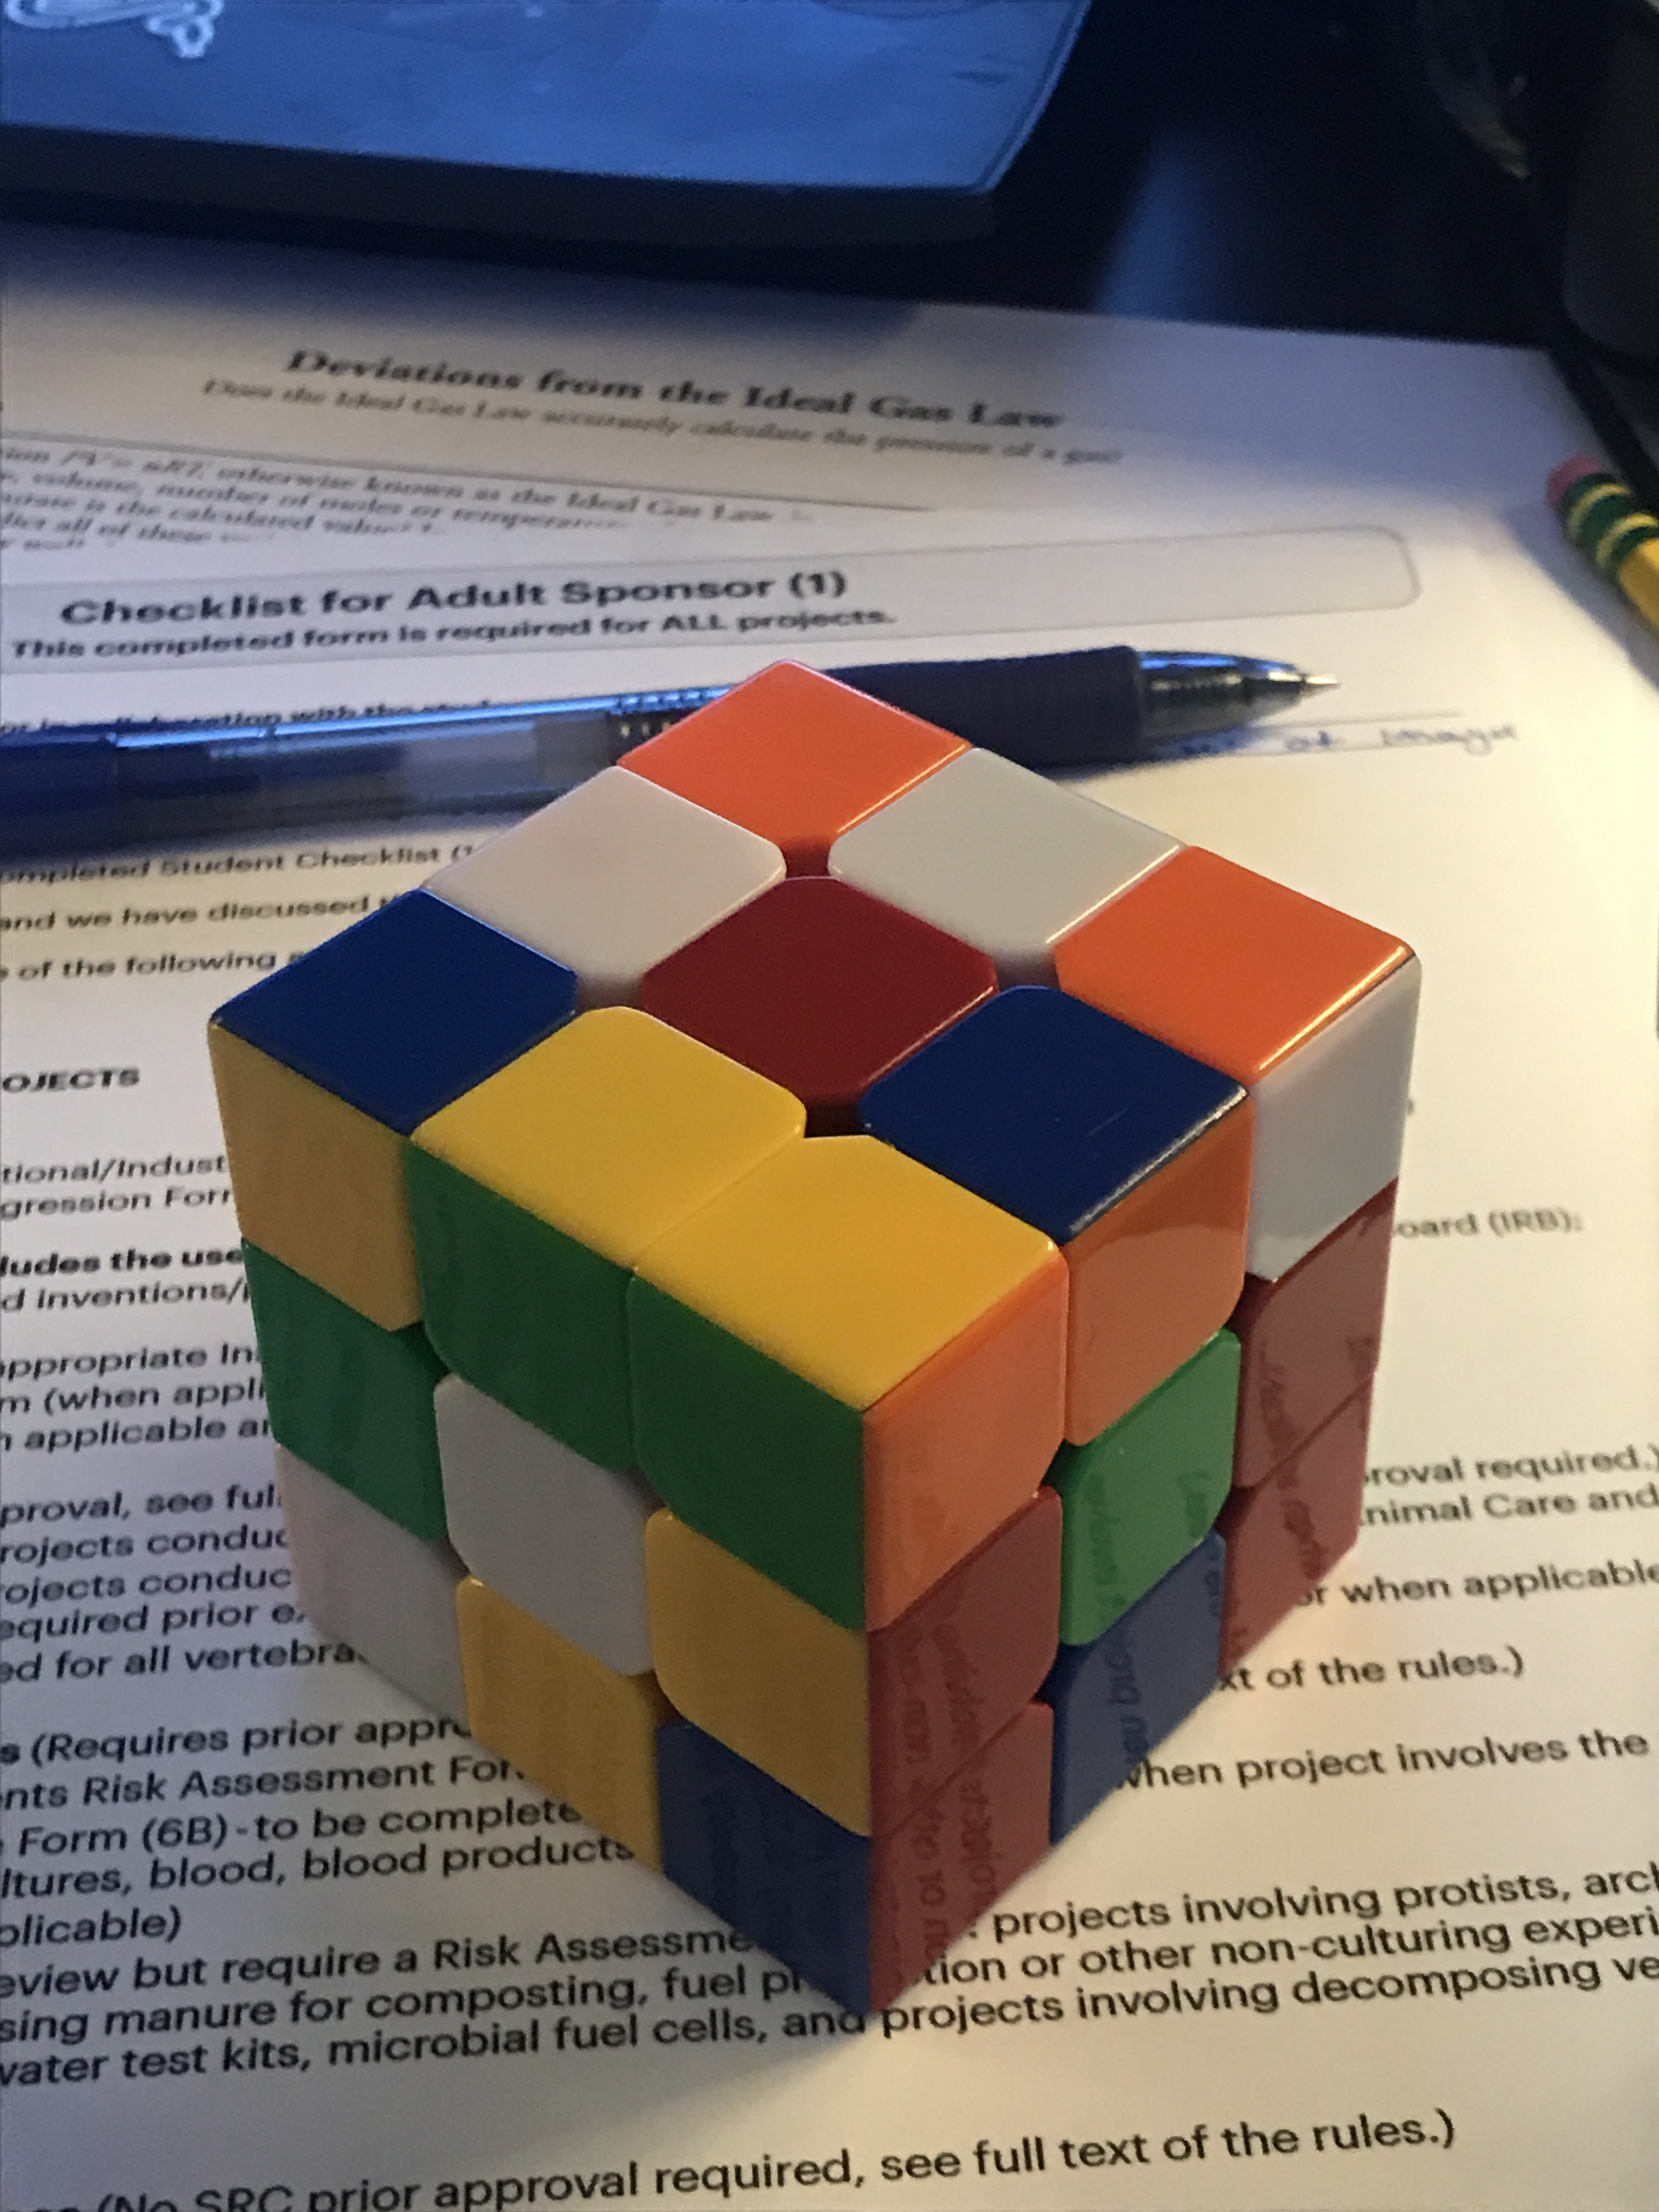rubiks: (202, 667, 1431, 2055)
